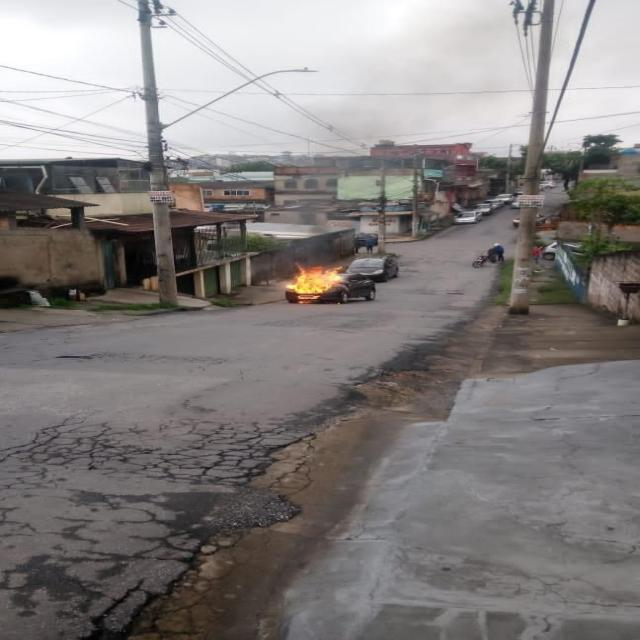Fire: (286, 266, 344, 304)
Smoke: (286, 208, 356, 266)
